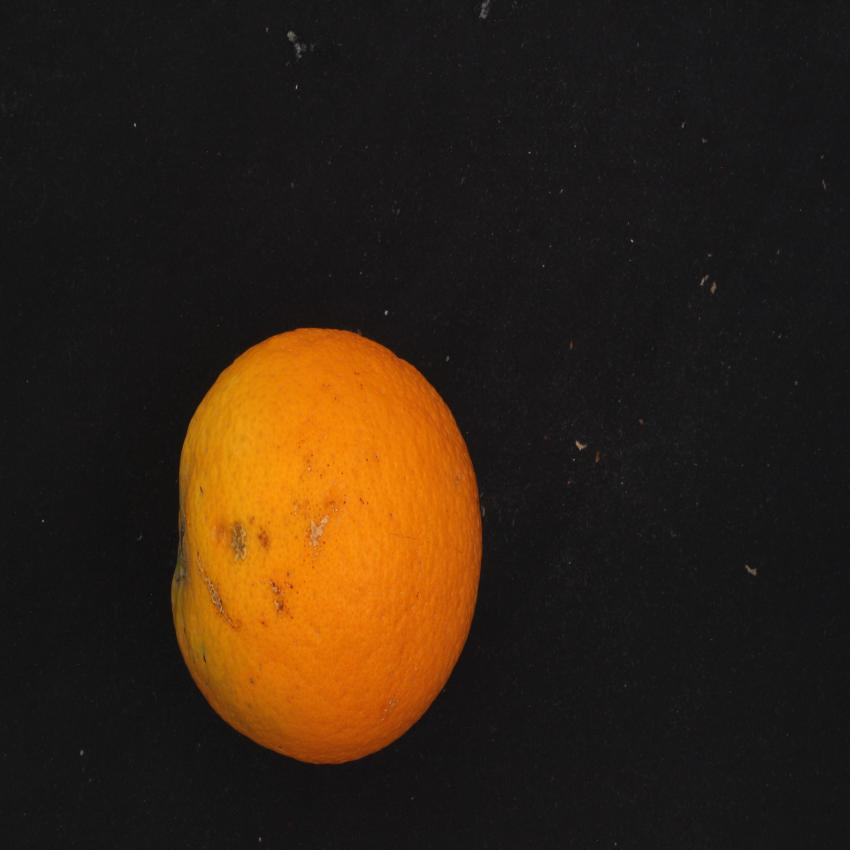Mal estado: (151, 307, 502, 786)
